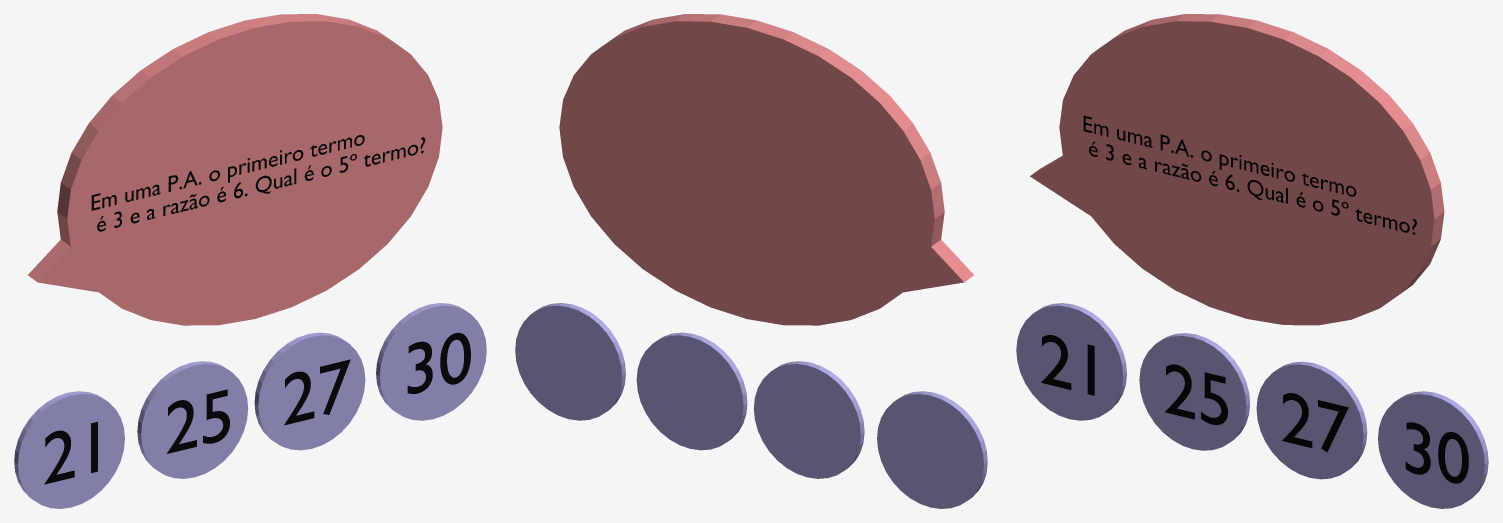
Rendered from 3PERGUNTA.fbx.
The picture shows the model from 3 angles, left to right: view 1: azimuth 30°, elevation 25°; view 2: azimuth 150°, elevation 25°; view 3: azimuth 330°, elevation 25°; orthographic projection.
Visible parts, largest first — view 1: 2PERGUNTA.001, 25, 30, A)21, 27crt; view 2: 2PERGUNTA.001, 25, 30, A)21, 27crt; view 3: 2PERGUNTA.001, 25, A)21, 27crt, 30.
Part boxes in pixels (box(x1,y1,x2,y2)): 2PERGUNTA.001: box(28, 14, 442, 325); 25: box(137, 361, 248, 478); 30: box(376, 303, 486, 420); A)21: box(14, 391, 124, 508); 27crt: box(254, 332, 365, 450); 2PERGUNTA.001: box(559, 14, 973, 325); 25: box(753, 361, 864, 478); 30: box(515, 303, 625, 420); A)21: box(877, 391, 987, 508); 27crt: box(636, 332, 747, 450); 2PERGUNTA.001: box(1030, 14, 1444, 325); 25: box(1139, 333, 1250, 450); A)21: box(1016, 303, 1126, 420); 27crt: box(1256, 361, 1367, 479); 30: box(1378, 391, 1488, 508).
Size of the model in its own units: 250 by 223 by 9.38.
